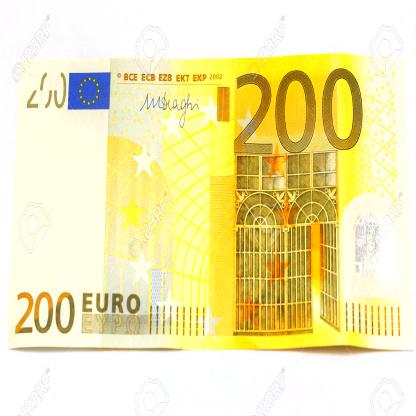euro_banknote: (11, 52, 416, 352)
